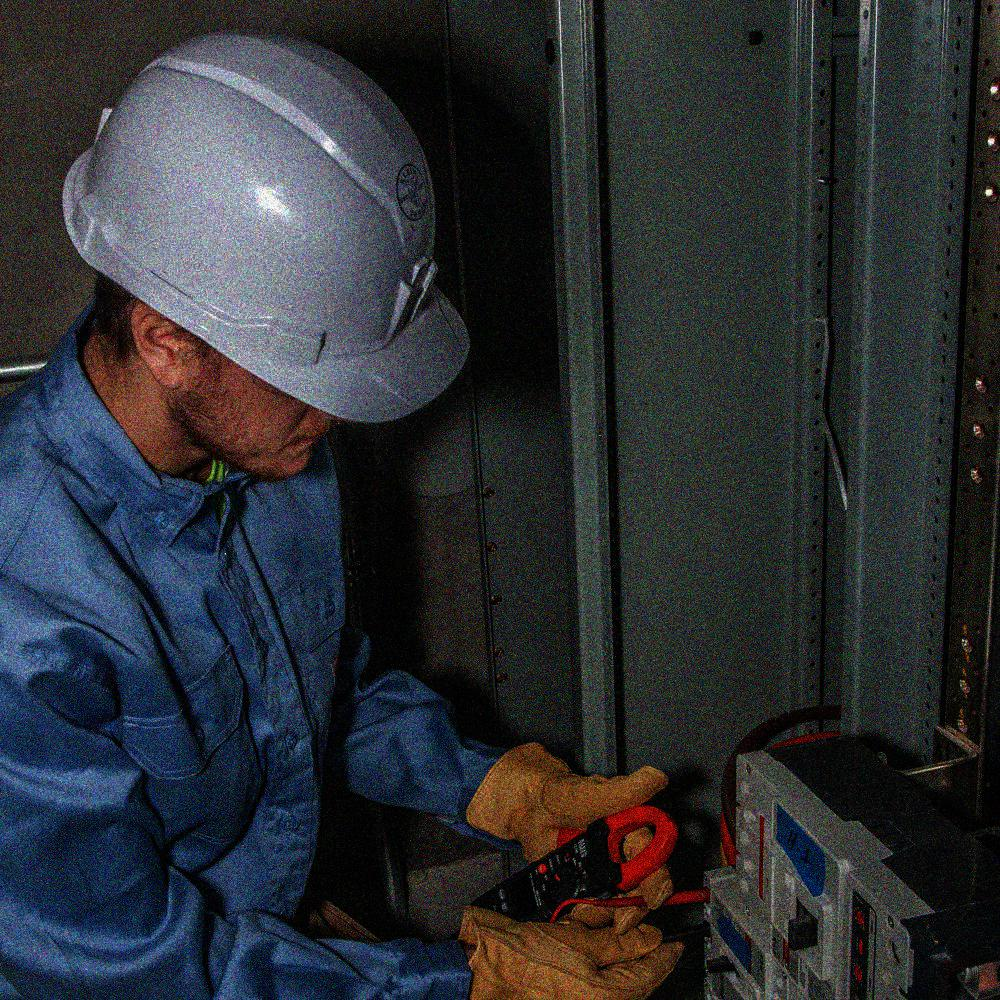helmet: (59, 30, 473, 483)
